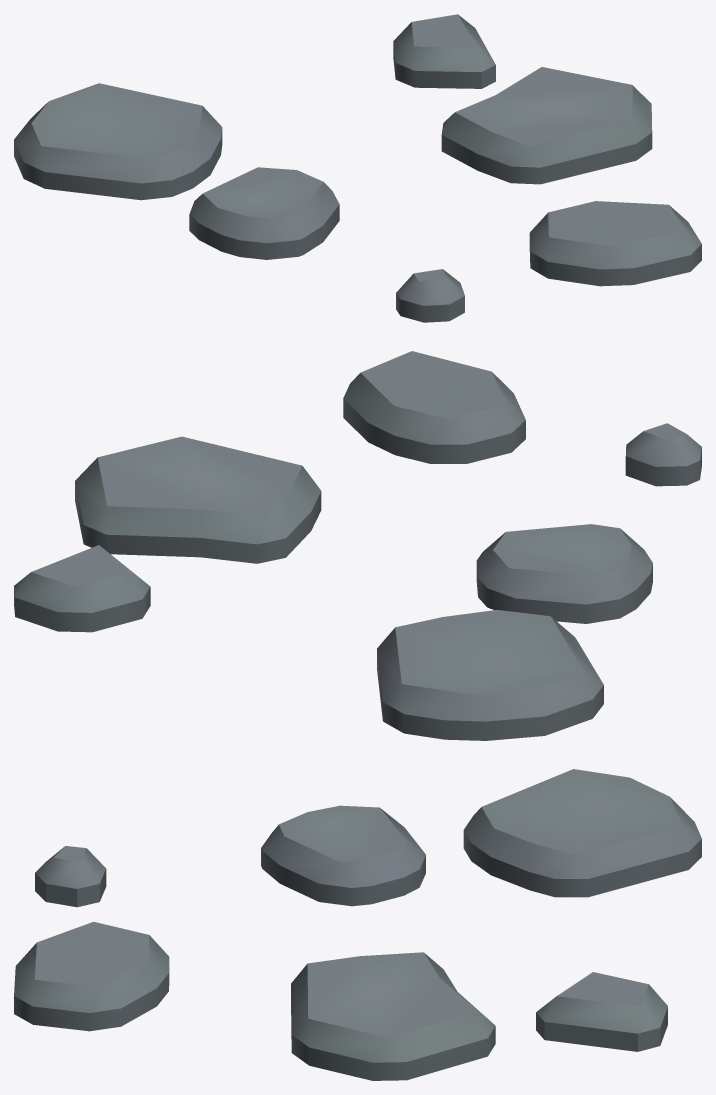
The model's file is path_D.glb.
3 views of the same model, one above another, from view 1: azimuth 30°, elevation 25°; view 2: azimuth 150°, elevation 25°; view 3: azimuth 270°, elevation 25° (orthographic). The views are drawn at different scales.
Visible parts, largest first — view 1: path_D; view 2: path_D; view 3: path_D.
Part boxes in pixels (left/top/right/bottom): path_D: left=14, top=14, right=701, bottom=322; path_D: left=14, top=351, right=701, bottom=740; path_D: left=14, top=769, right=701, bottom=1080.
Bounding box in the file's own units: 1.66 × 0.1 × 1.71.
Materials: 1 (1 with a texture image).
